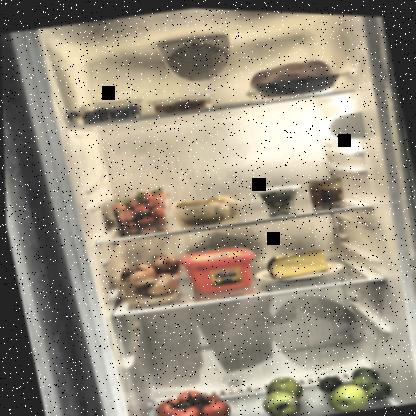apple: (254, 367, 309, 415), (323, 375, 369, 412)
blueberries: (80, 98, 140, 125)
butter: (176, 237, 261, 297)
cheese: (260, 240, 330, 281)
chicken: (239, 46, 348, 104)
corn: (305, 170, 347, 207)
lime: (346, 358, 395, 402), (313, 369, 344, 392)
onion: (113, 245, 185, 303)
potato: (173, 186, 248, 232)
shrimp: (149, 88, 218, 120)
strawberries: (104, 181, 172, 235)
tomato: (144, 378, 234, 415)
